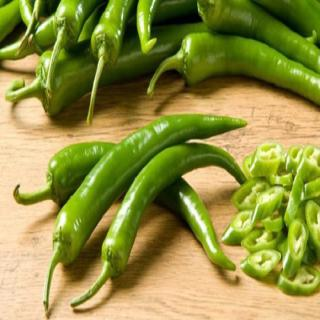Cabai Hijau: (16, 112, 249, 319)
